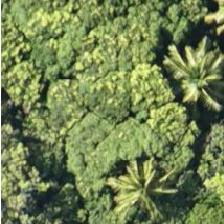coconut_tree: (97, 149, 187, 223), (158, 52, 223, 142)
